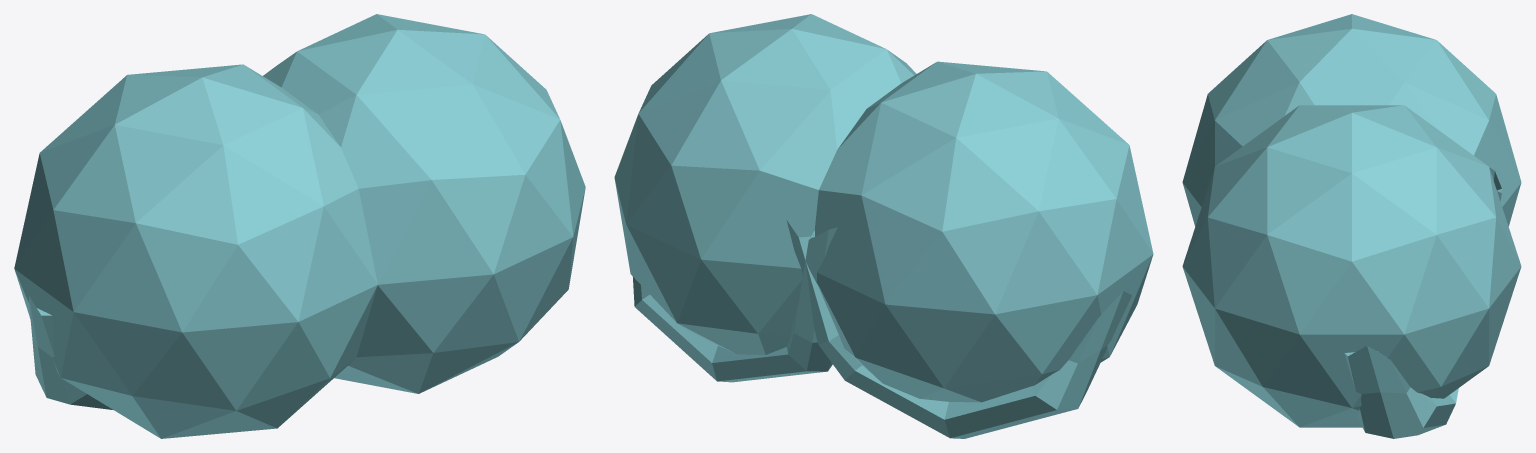
Rendered from El Culo.fbx.
3 views of the same model, side by side, from view 1: azimuth 30°, elevation 25°; view 2: azimuth 150°, elevation 25°; view 3: azimuth 270°, elevation 25° (orthographic). The views are drawn at different scales.
Visible parts, largest first — view 1: Goblin.001; view 2: Goblin.001; view 3: Goblin.001.
Part boxes in pixels (x1,y1,x2,y2): Goblin.001: (14,14,585,438); Goblin.001: (614,14,1153,438); Goblin.001: (1182,14,1521,438).
Bounding box in the file's own units: 173 × 111 × 110.
